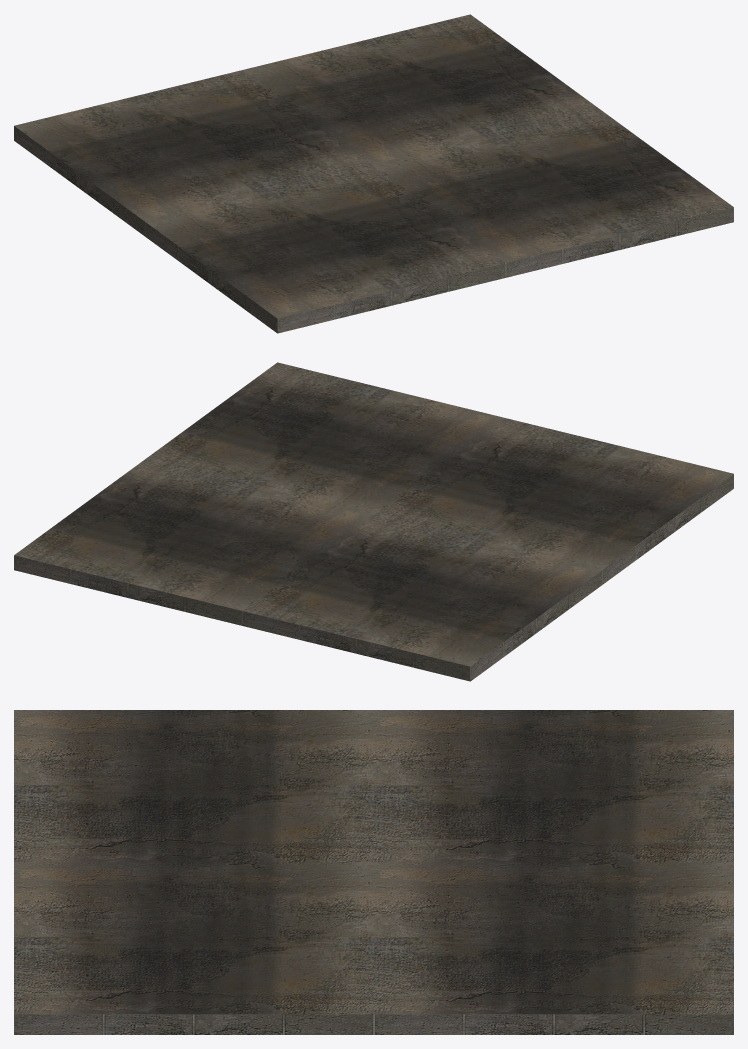
The model's file is Dockslb1.glb.
3 views of the same model, one above another, from view 1: azimuth 30°, elevation 25°; view 2: azimuth 150°, elevation 25°; view 3: azimuth 270°, elevation 25° (orthographic). The views are drawn at different scales.
Visible parts, largest first — view 1: _Dockslb1; view 2: _Dockslb1; view 3: _Dockslb1.
Part boxes in pixels (left/top/right/bottom): _Dockslb1: left=14, top=14, right=733, bottom=333; _Dockslb1: left=14, top=362, right=733, bottom=681; _Dockslb1: left=14, top=710, right=733, bottom=1034.
Bounding box in the file's own units: 32 × 1 × 32.
1 material, 1 textured.
